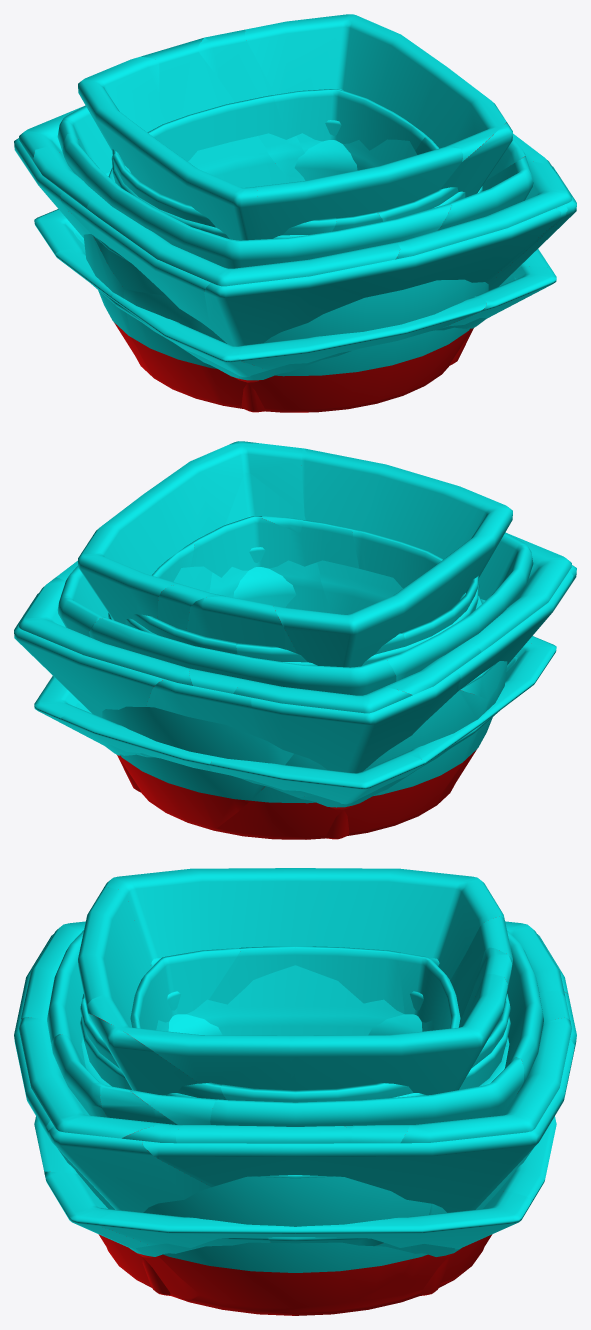
Rendered from bowl_shards_grp.fbx.
3 renders of one model, top to bottom at view 1: azimuth 30°, elevation 25°; view 2: azimuth 150°, elevation 25°; view 3: azimuth 270°, elevation 25°, orthographic. The views are drawn at different scales.
Parts seen in each view (by area): view 1: bowl_18_shard_6, bowl_2_shard_5, bowl_14_shard_10, bowl_2_shard_11, bowl_7_shard_13, bowl_2_shard_10, bowl_2_shard_2, bowl_21_shard_9, bowl_28_shard_11, bowl_2_shard_7, bowl_25_shard_10, bowl_28_shard_9 (+24 smaller); view 2: bowl_2_shard_10, bowl_18_shard_4, bowl_2_shard_11, bowl_18_shard_8, bowl_14_shard_6, bowl_2_shard_7, bowl_2_shard_5, bowl_7_shard_8, bowl_7_shard_13, bowl_14_shard_12, bowl_25_shard_5, bowl_2_shard_9 (+26 smaller); view 3: bowl_2_shard_11, bowl_18_shard_9, bowl_14_shard_12, bowl_2_shard_5, bowl_25_shard_7, bowl_7_shard_14, bowl_2_shard_7, bowl_14_shard_1, bowl_28_shard_6, bowl_2_shard_10, bowl_21_shard_12, bowl_28_shard_10 (+35 smaller).
Boxes of the visible parts, left/top/right/bottom form: bowl_18_shard_6: left=190, top=279, right=488, bottom=411; bowl_2_shard_5: left=245, top=14, right=449, bottom=170; bowl_14_shard_10: left=204, top=208, right=561, bottom=346; bowl_2_shard_11: left=78, top=56, right=262, bottom=240; bowl_7_shard_13: left=62, top=134, right=451, bottom=268; bowl_2_shard_10: left=257, top=145, right=463, bottom=239; bowl_2_shard_2: left=141, top=38, right=285, bottom=187; bowl_21_shard_9: left=87, top=198, right=400, bottom=286; bowl_28_shard_11: left=273, top=89, right=427, bottom=150; bowl_2_shard_7: left=405, top=69, right=506, bottom=161; bowl_25_shard_10: left=239, top=296, right=486, bottom=369; bowl_28_shard_9: left=147, top=95, right=287, bottom=161; bowl_2_shard_10: left=300, top=448, right=494, bottom=614; bowl_18_shard_4: left=215, top=690, right=487, bottom=838; bowl_2_shard_11: left=273, top=501, right=512, bottom=667; bowl_18_shard_8: left=102, top=706, right=293, bottom=829; bowl_14_shard_6: left=251, top=671, right=460, bottom=839; bowl_2_shard_7: left=146, top=443, right=304, bottom=592; bowl_2_shard_5: left=78, top=492, right=188, bottom=624; bowl_7_shard_8: left=89, top=617, right=396, bottom=695; bowl_7_shard_13: left=384, top=533, right=533, bottom=681; bowl_14_shard_12: left=14, top=593, right=164, bottom=762; bowl_25_shard_5: left=209, top=754, right=424, bottom=804; bowl_2_shard_9: left=210, top=441, right=331, bottom=613; bowl_2_shard_11: left=102, top=868, right=504, bottom=1035; bowl_18_shard_9: left=143, top=1175, right=431, bottom=1308; bowl_14_shard_12: left=141, top=1039, right=574, bottom=1272; bowl_2_shard_5: left=289, top=974, right=507, bottom=1095; bowl_25_shard_7: left=98, top=1191, right=531, bottom=1249; bowl_7_shard_14: left=210, top=1057, right=524, bottom=1126; bowl_2_shard_7: left=87, top=997, right=291, bottom=1090; bowl_14_shard_1: left=48, top=1126, right=211, bottom=1295; bowl_28_shard_6: left=209, top=946, right=404, bottom=1013; bowl_2_shard_10: left=78, top=886, right=168, bottom=1031; bowl_21_shard_12: left=400, top=1017, right=571, bottom=1143; bowl_28_shard_10: left=130, top=948, right=240, bottom=1030.
Bounding box in the file's own units: 24.12 × 14 × 25.02.
